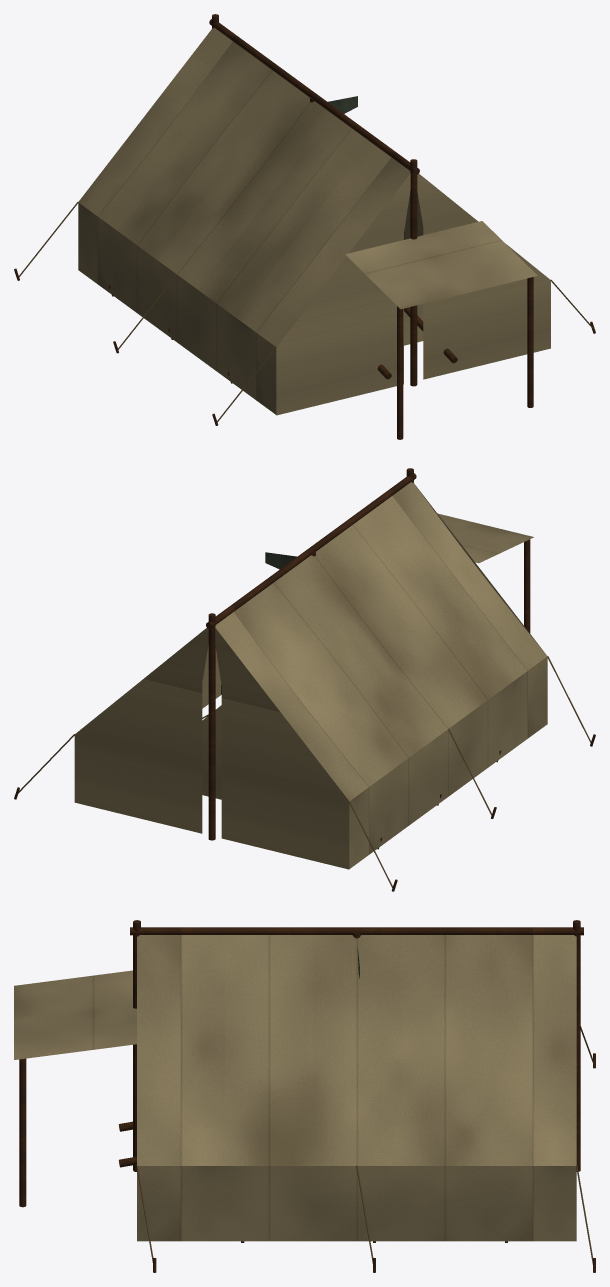
The model's file is field_camp.glb.
3 views of the same model, one above another, from view 1: azimuth 30°, elevation 25°; view 2: azimuth 150°, elevation 25°; view 3: azimuth 270°, elevation 25° (orthographic). The views are drawn at different scales.
Visible parts, largest first — view 1: CommandTent; view 2: CommandTent, TentA; view 3: CommandTent.
Boxes of the visible parts, bbox=[...] form: CommandTent: bbox=[14, 14, 595, 439]; CommandTent: bbox=[14, 468, 595, 891]; TentA: bbox=[202, 705, 501, 849]; CommandTent: bbox=[14, 920, 595, 1272].
Size of the model in its own units: 5.58 by 3.13 by 6.62.
Materials: 5 (5 with a texture image).
